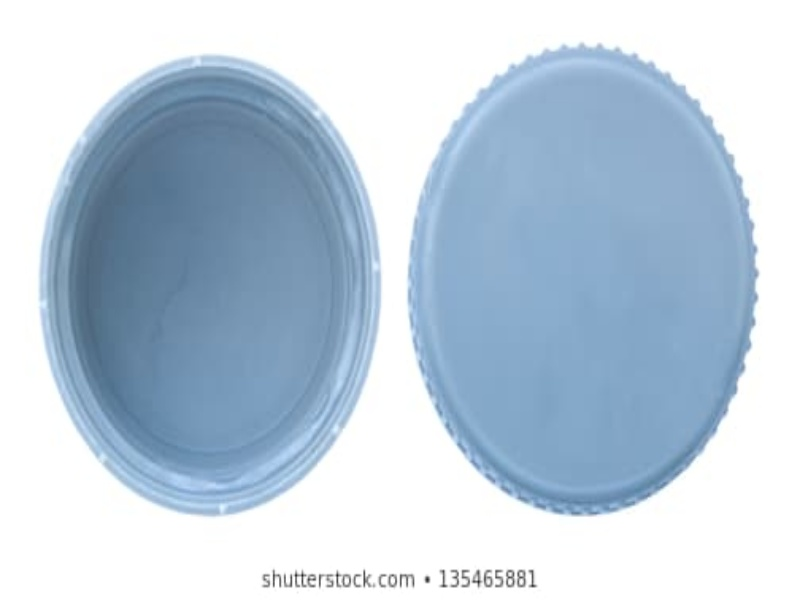bottle-cap: (407, 42, 757, 518), (38, 53, 381, 518)
